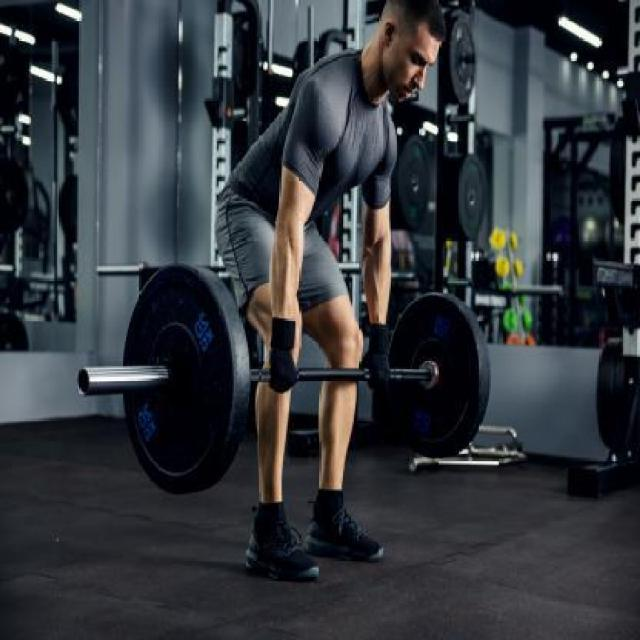Barbell: (75, 356, 94, 407)
